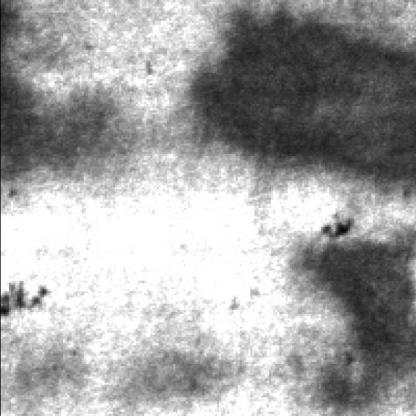patches: (187, 13, 414, 183), (291, 233, 412, 403), (0, 49, 110, 172)
